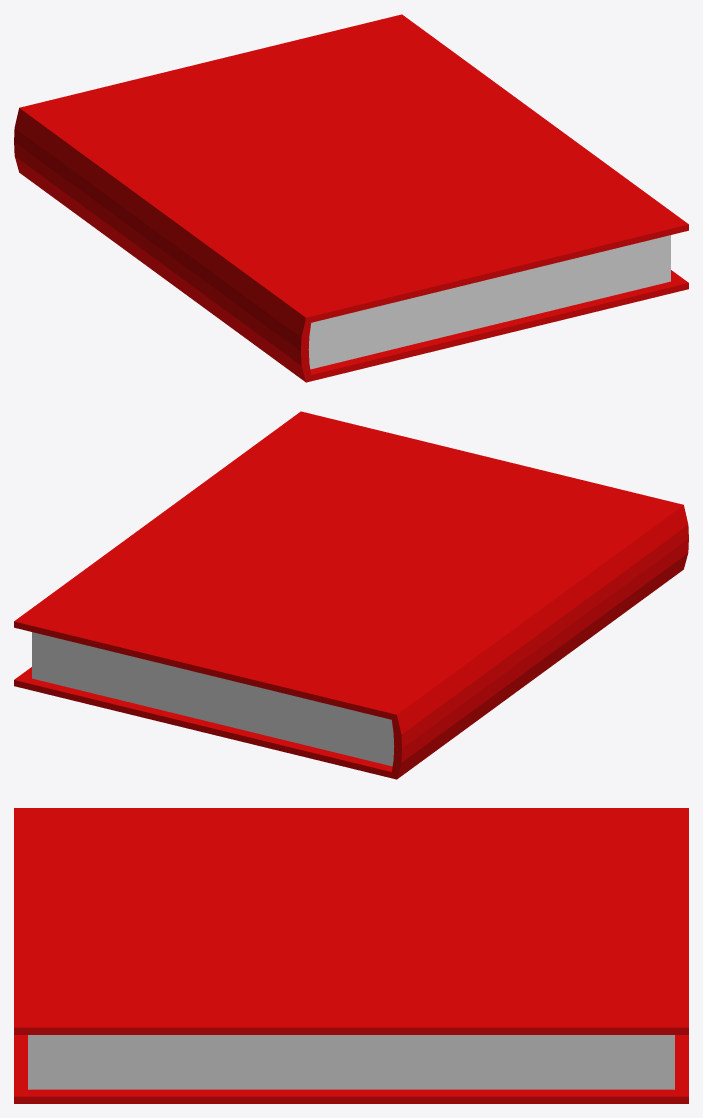
Rendered from Libro.fbx.
The picture shows the model from 3 angles, top to bottom: view 1: azimuth 30°, elevation 25°; view 2: azimuth 150°, elevation 25°; view 3: azimuth 270°, elevation 25°; orthographic projection. The views are drawn at different scales.
Parts seen in each view (by area): view 1: Plane, Cube; view 2: Plane, Cube; view 3: Plane, Cube.
Part boxes in pixels (<box>): Plane: <box>14,14,688,382</box>; Cube: <box>308,235,670,369</box>; Plane: <box>14,411,688,779</box>; Cube: <box>32,632,394,766</box>; Plane: <box>14,808,688,1103</box>; Cube: <box>28,1035,674,1089</box>.
Size of the model in its own units: 2.36 by 14.77 by 18.92.
